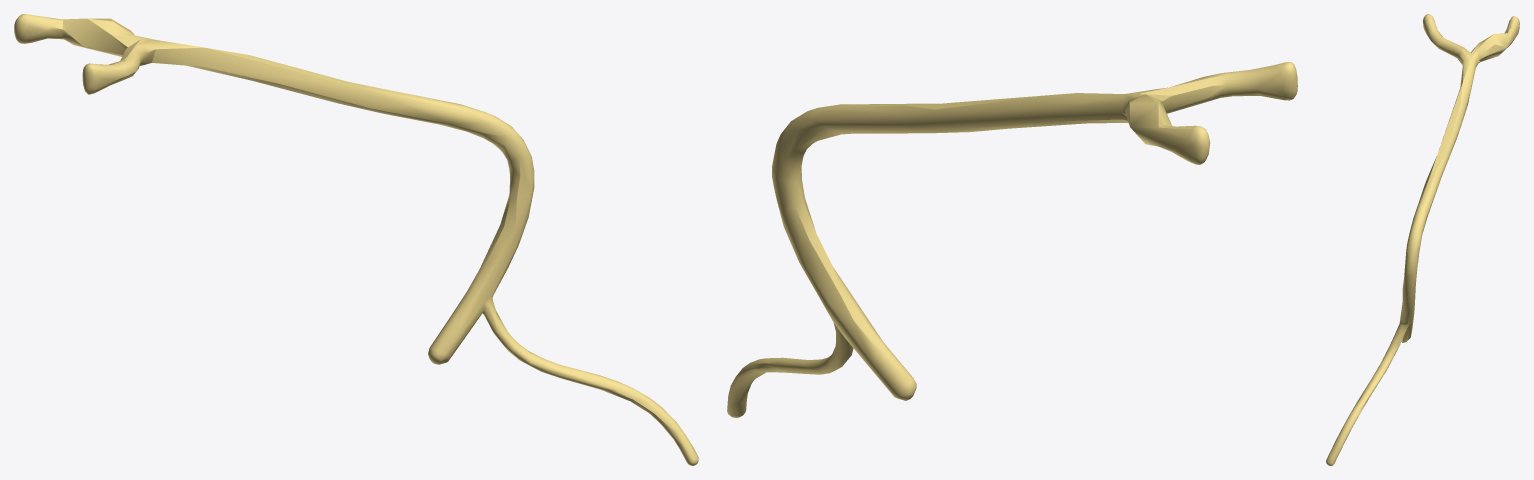
The model's file is fma7003_fj4261.glb.
3 views of the same model, side by side, from view 1: azimuth 30°, elevation 25°; view 2: azimuth 150°, elevation 25°; view 3: azimuth 270°, elevation 25° (orthographic). The views are drawn at different scales.
Visible parts, largest first — view 1: FMA7003_FJ4261; view 2: FMA7003_FJ4261; view 3: FMA7003_FJ4261.
Part boxes in pixels (x1,y1,x2,y2): FMA7003_FJ4261: (14, 14, 698, 465); FMA7003_FJ4261: (727, 62, 1297, 417); FMA7003_FJ4261: (1326, 14, 1519, 465).
Size of the model in its own units: 0.0386 by 0.0324 by 0.0195.
